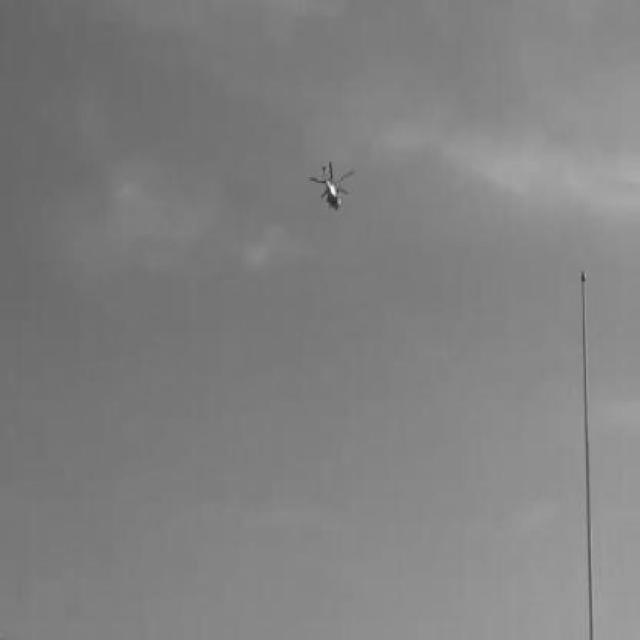helikopter: (308, 162, 354, 210)
